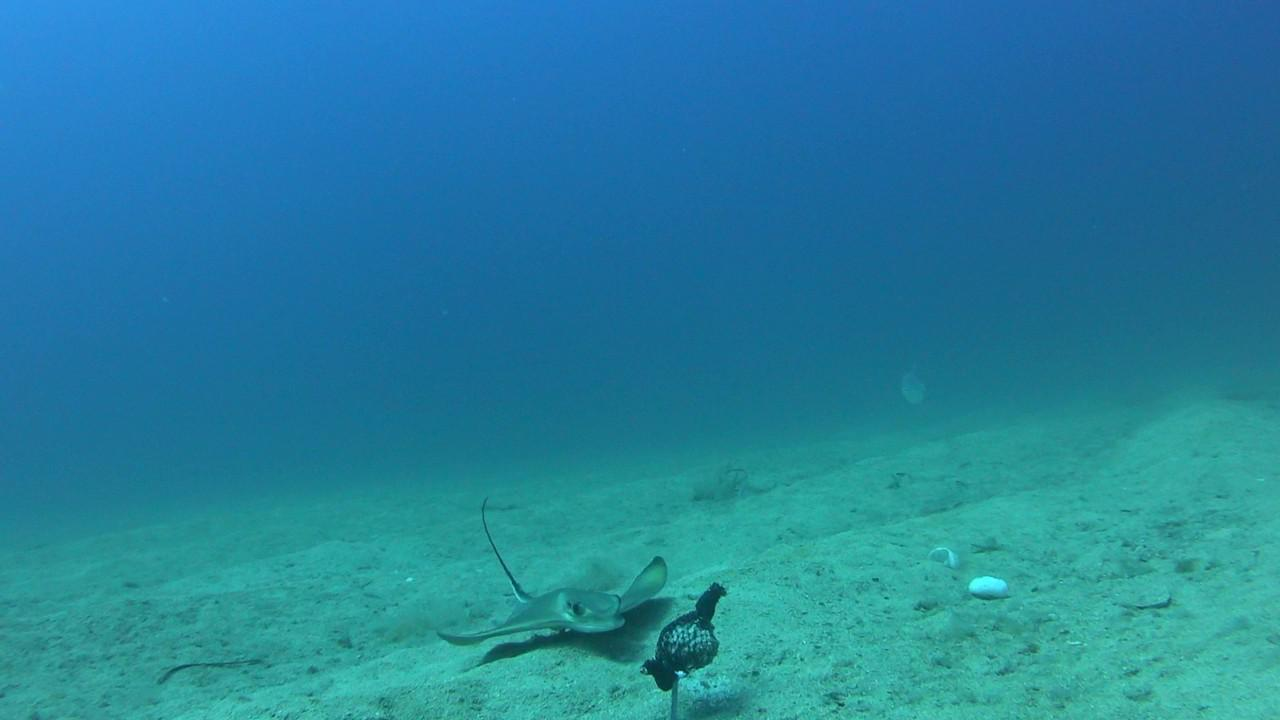myliobatis: (392, 485, 676, 645)
